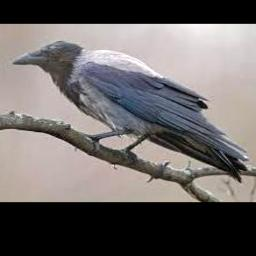Crow: (12, 40, 249, 182)
